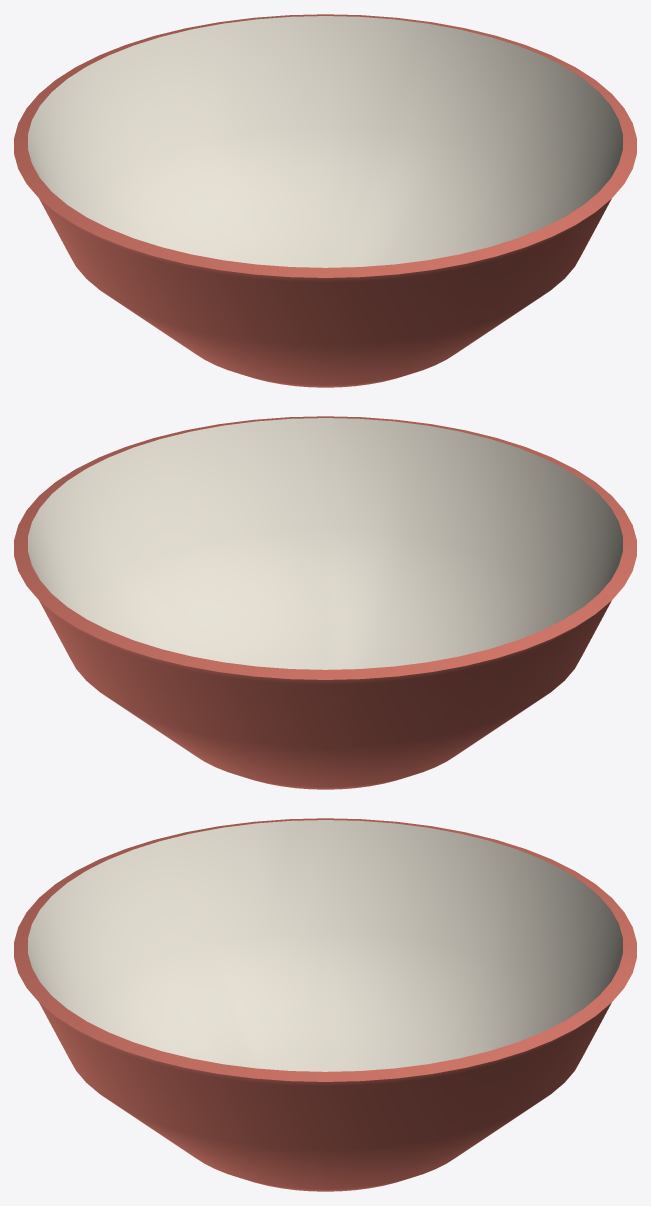
The model's file is kit_bowl.glb.
3 views of the same model, one above another, from view 1: azimuth 30°, elevation 25°; view 2: azimuth 150°, elevation 25°; view 3: azimuth 270°, elevation 25° (orthographic).
Parts seen in each view (by area): view 1: PART; view 2: PART; view 3: PART.
Boxes of the visible parts, x1,y1,x2,y2 form: PART: [14, 14, 636, 387]; PART: [14, 416, 636, 789]; PART: [14, 818, 636, 1191].
Bounding box in the file's own units: 0.268 × 0.091 × 0.2675.
